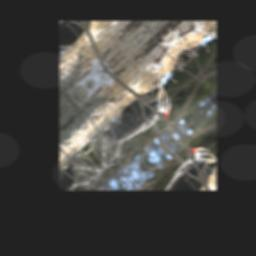Woodpecker: (88, 75, 182, 173)
